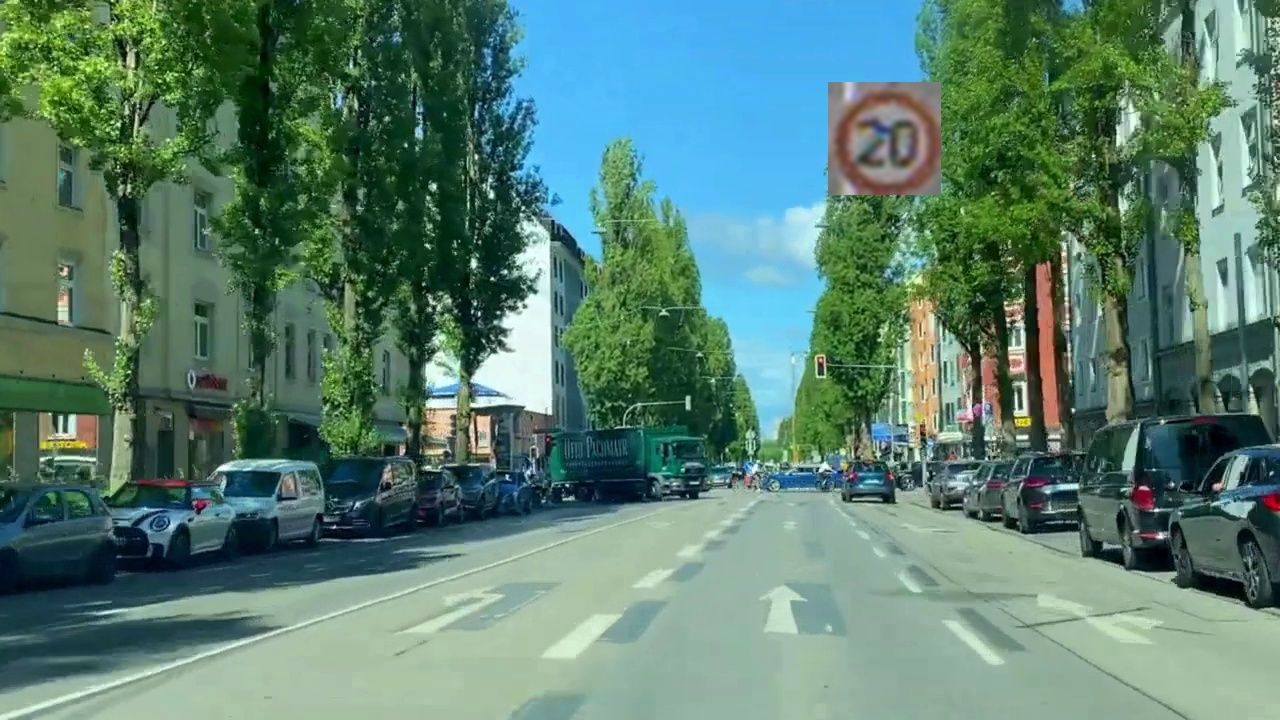Speed 20: (828, 82, 941, 195)
